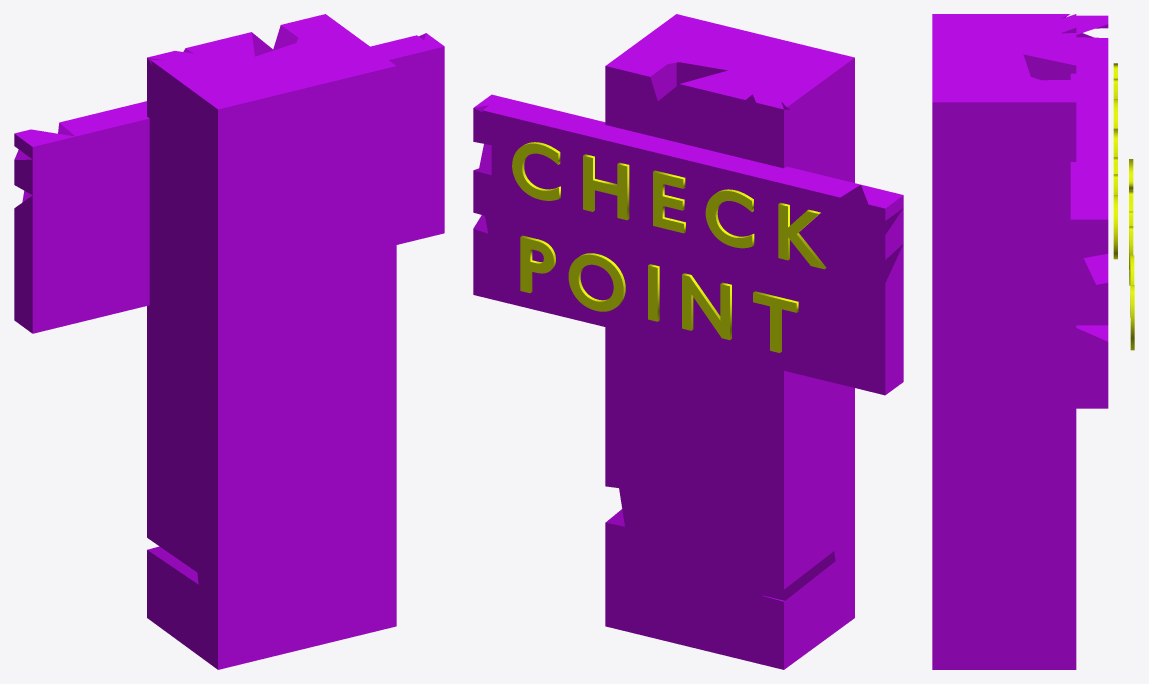
The model's file is checkpoint.obj.
3 renders of one model, left to right at view 1: azimuth 30°, elevation 25°; view 2: azimuth 150°, elevation 25°; view 3: azimuth 270°, elevation 25°, orthographic.
Visible parts, largest first — view 1: 立方体, 立方体.001; view 2: 立方体, 立方体.001, Text.005, Text.006, Text.001, Text.004, Text.002, Text, Text.003, Text.009, Text.008, Text.007; view 3: 立方体, 立方体.001, Text.009, Text.
Boxes of the visible parts, x1,y1,x2,y2 form: 立方体: (147, 14, 396, 669); 立方体.001: (14, 33, 444, 333); 立方体: (605, 14, 854, 669); 立方体.001: (473, 94, 903, 395); Text.005: (682, 273, 731, 340); Text.006: (568, 253, 625, 311); Text.001: (583, 154, 629, 220); Text.004: (778, 202, 826, 269); Text.002: (653, 170, 685, 233); Text: (512, 142, 560, 200); Text.003: (705, 189, 754, 248); Text.009: (520, 235, 555, 293); Text.008: (753, 291, 798, 352); Text.007: (648, 264, 659, 321); 立方体: (932, 14, 1076, 669); 立方体.001: (1070, 15, 1108, 408); Text.009: (1130, 285, 1134, 350); Text: (1113, 195, 1117, 259).
Size of the model in its own units: 4.62 by 6 by 1.94.
